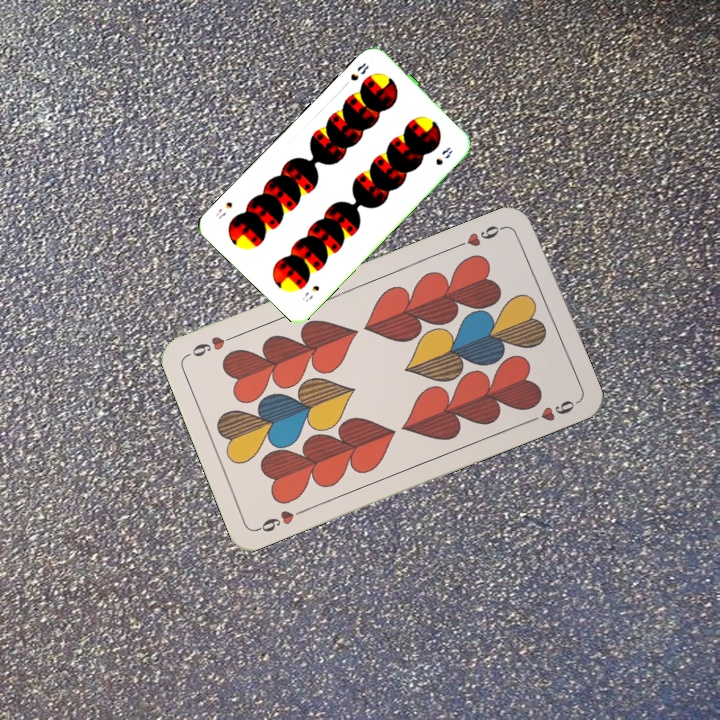H9: (253, 504, 309, 535), (453, 221, 509, 250)
S8: (346, 59, 371, 84), (298, 281, 322, 305)
